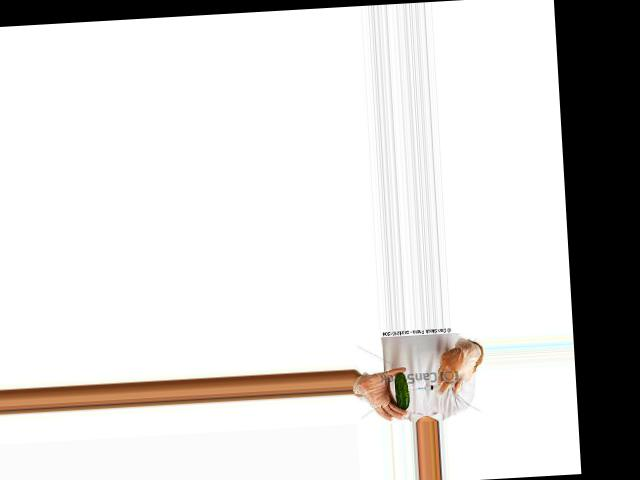cucumber: (393, 371, 409, 411)
